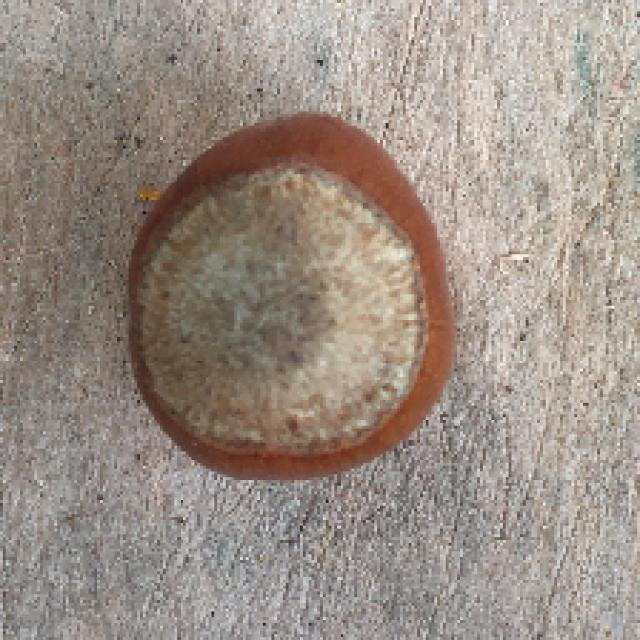qualityHazelnut: (136, 110, 451, 487)
